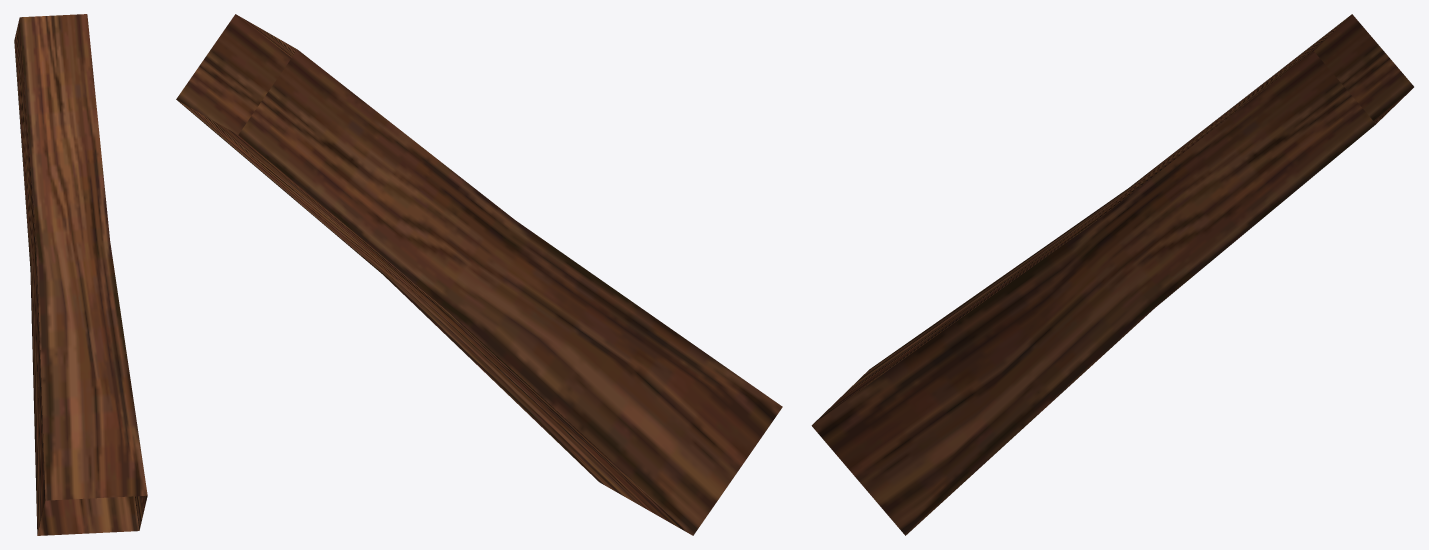
The model's file is OVERHILL_A_01_POST24.fbx.
The picture shows the model from 3 angles, left to right: view 1: azimuth 30°, elevation 25°; view 2: azimuth 150°, elevation 25°; view 3: azimuth 270°, elevation 25°; orthographic projection. The views are drawn at different scales.
Visible parts, largest first — view 1: OVERHILL_A_01_POST24; view 2: OVERHILL_A_01_POST24; view 3: OVERHILL_A_01_POST24.
Boxes of the visible parts, left/top/right/bottom form: OVERHILL_A_01_POST24: left=14, top=14, right=147, bottom=535; OVERHILL_A_01_POST24: left=176, top=14, right=782, bottom=535; OVERHILL_A_01_POST24: left=811, top=14, right=1413, bottom=535.
Size of the model in its own units: 4074 by 7005 by 6981.
Materials: 1 (1 with a texture image).
